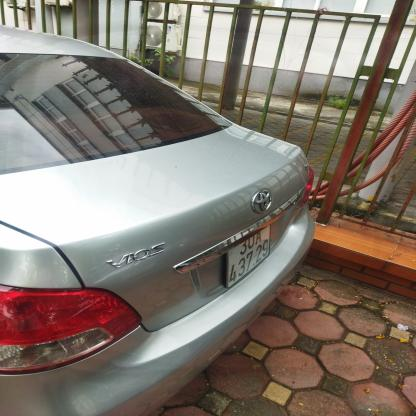biensoxe: (224, 225, 273, 288)
